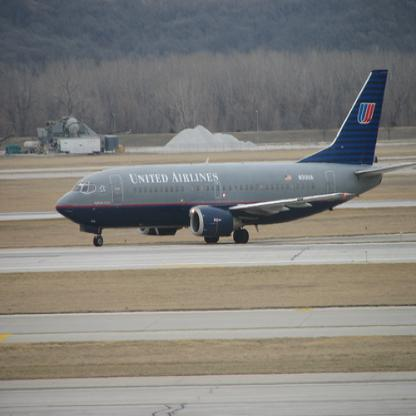aeroplane: (54, 68, 415, 247)
